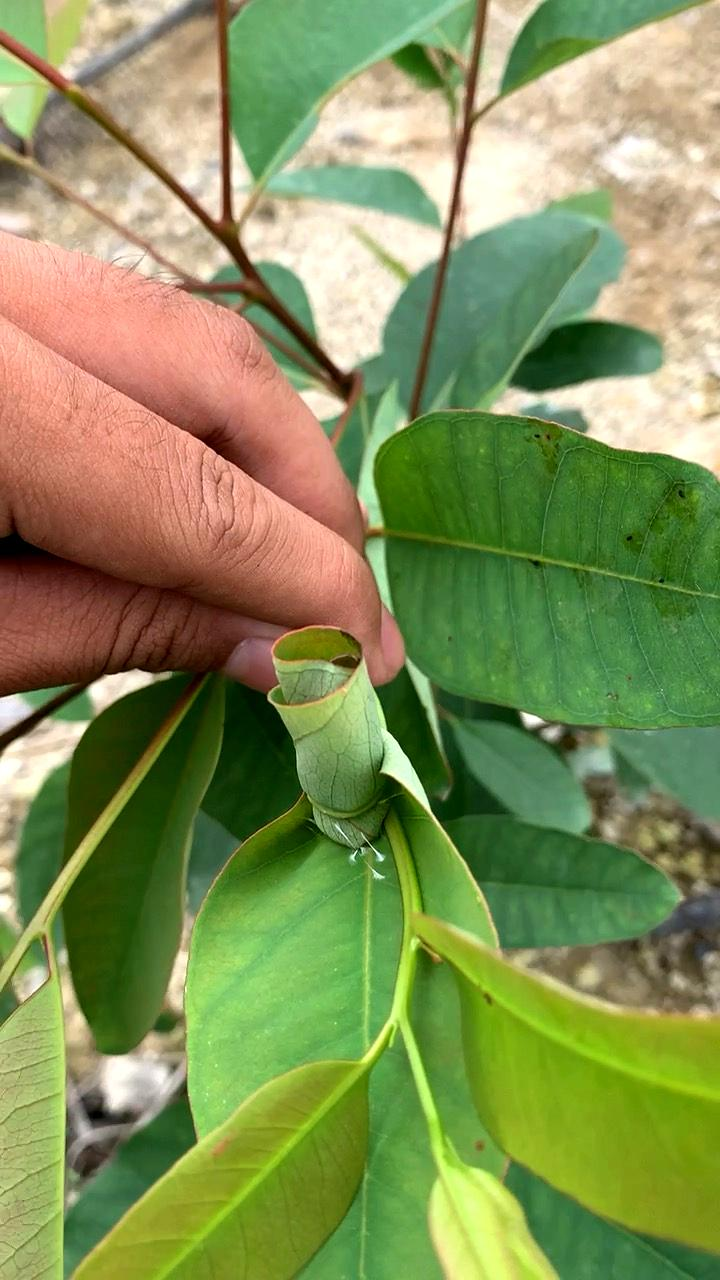Leaf Roller - Leaf: (260, 621, 409, 872)
